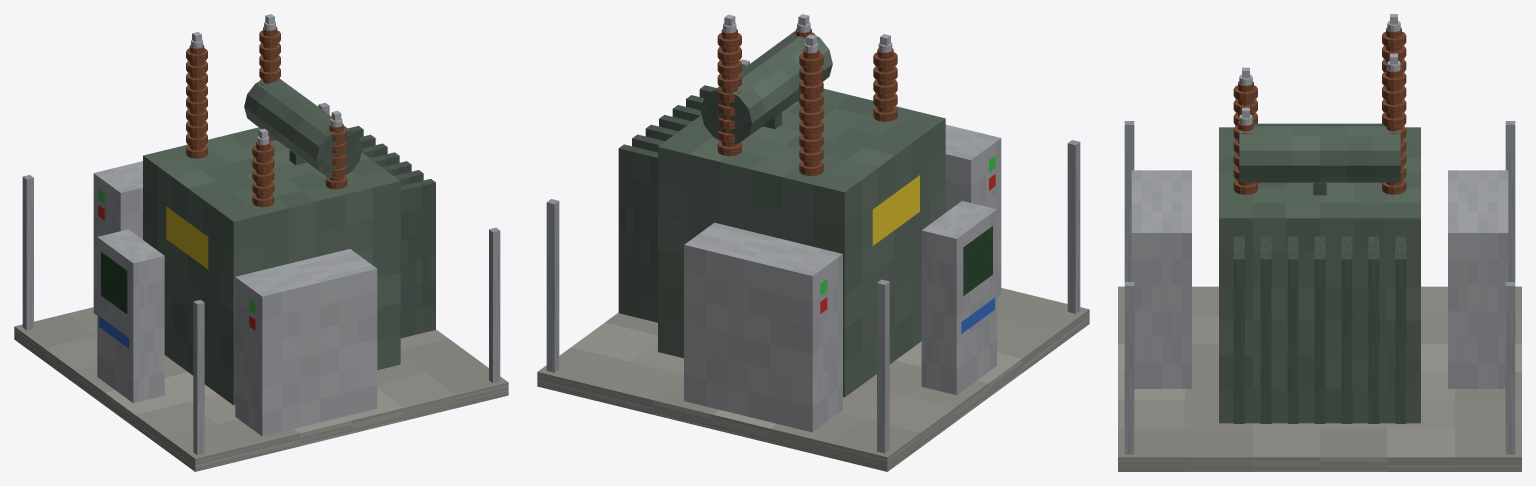
Rendered from substation.obj.
3 views of the same model, side by side, from view 1: azimuth 30°, elevation 25°; view 2: azimuth 150°, elevation 25°; view 3: azimuth 270°, elevation 25° (orthographic). The views are drawn at different scales.
Parts seen in each view (by area): view 1: main; view 2: main; view 3: main.
Boxes of the visible parts, left/top/right/bottom form: main: left=14, top=21, right=508, bottom=471; main: left=537, top=22, right=1089, bottom=471; main: left=1118, top=21, right=1521, bottom=471.
Size of the model in its own units: 3 by 2.9 by 3.
1 material, 1 textured.
